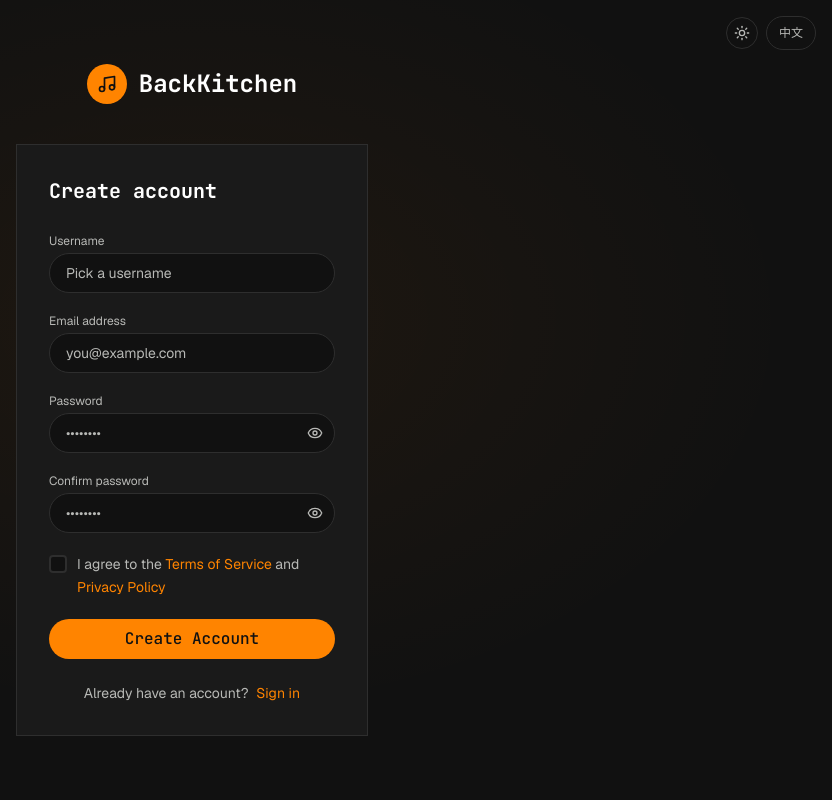
RegisterView › shows duplicate account error
Type "ada" into the field with placeholder "Pick a username" at (192, 273), box [49, 253, 335, 293]
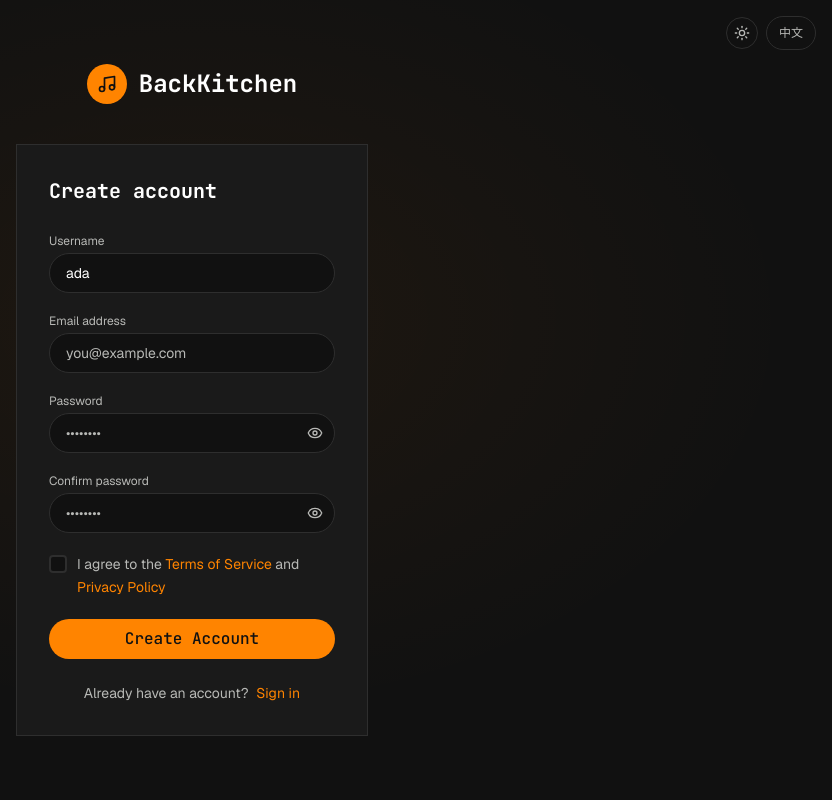
Type "ada@test.com" into the field with placeholder "you@example.com" at (192, 353), box [49, 333, 335, 373]
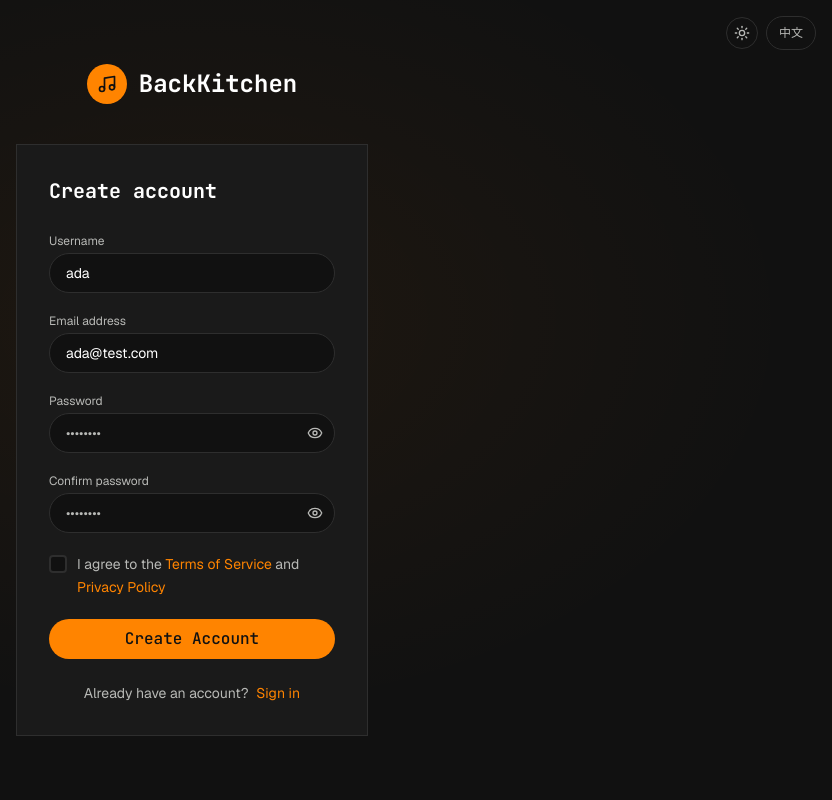
Type "password123" into the 1st password field with placeholder "••••••••" at (192, 433), box [49, 413, 335, 453]
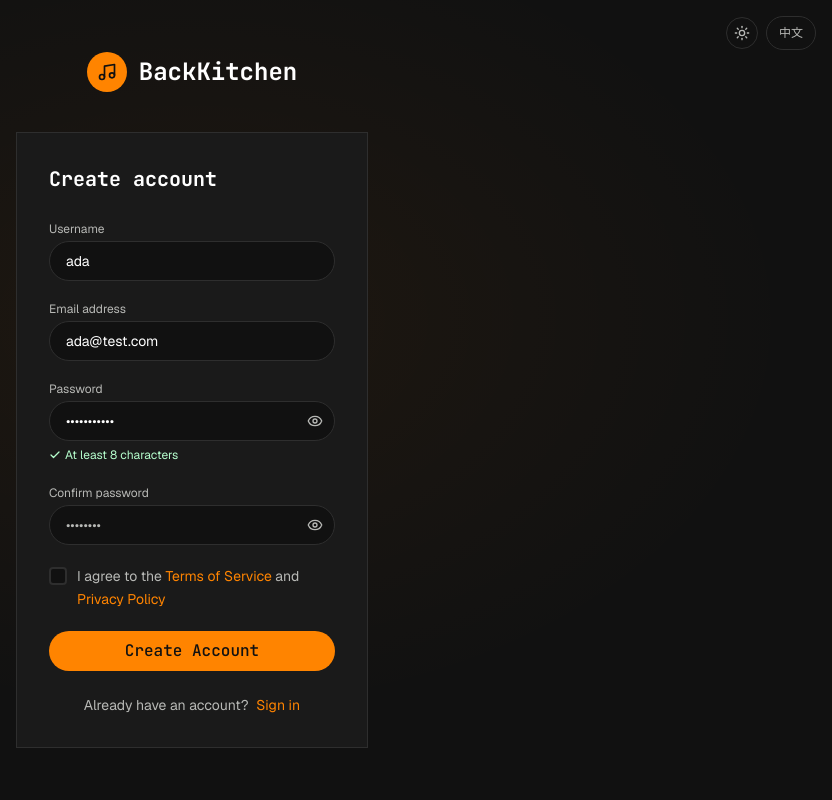
Type "password123" into the password field with placeholder "••••••••" at (192, 525), box [49, 505, 335, 545]
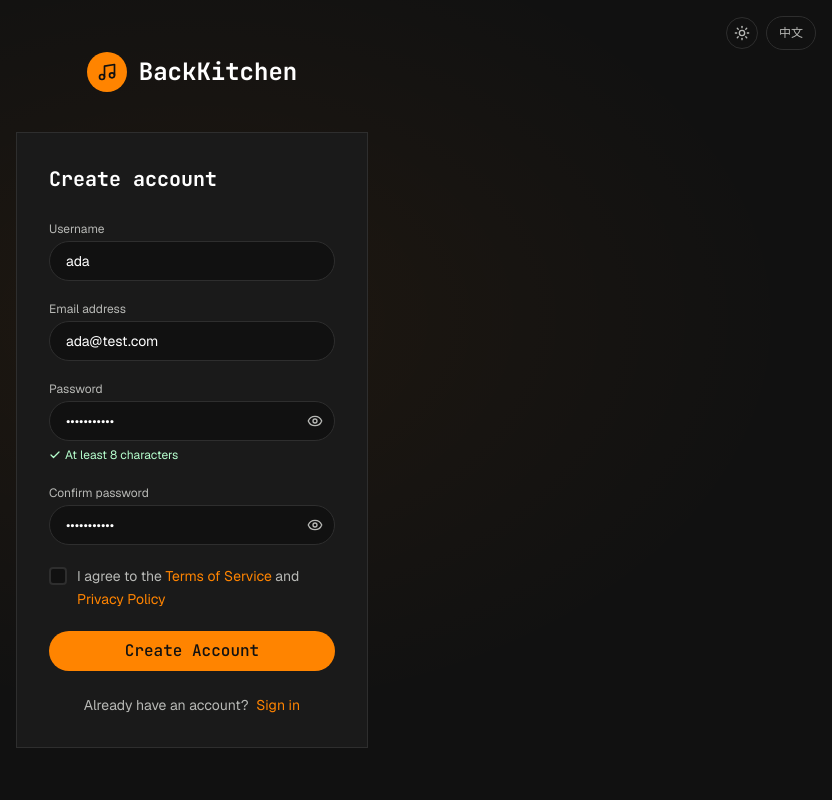
Click the checkbox labelled "I agree to the Terms of Service and Privacy Policy" at (58, 576), box [49, 567, 67, 585]
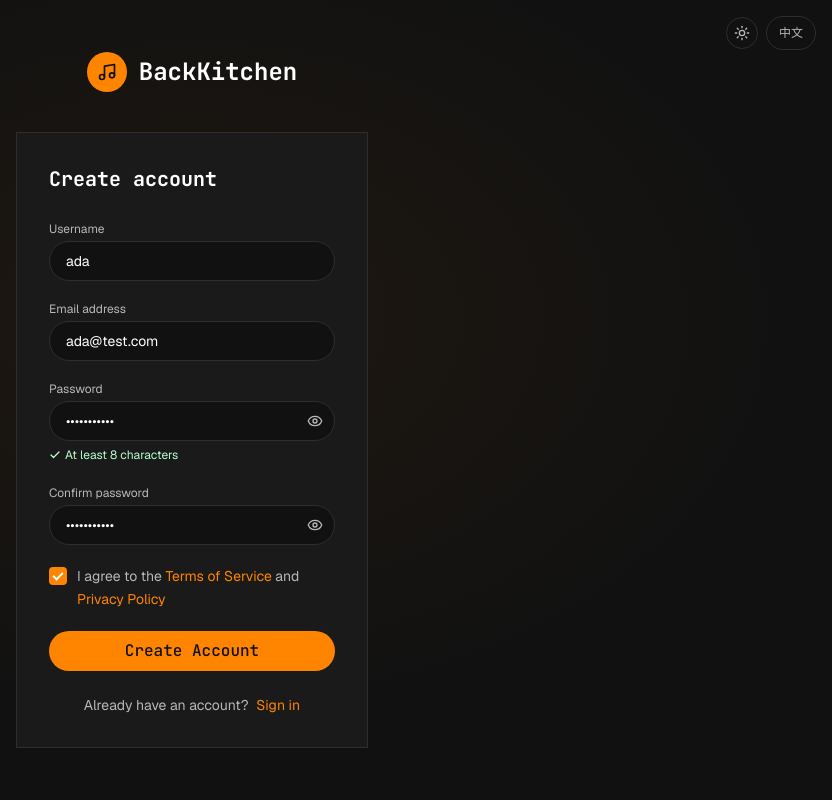
Submit the form, box [49, 221, 335, 671]
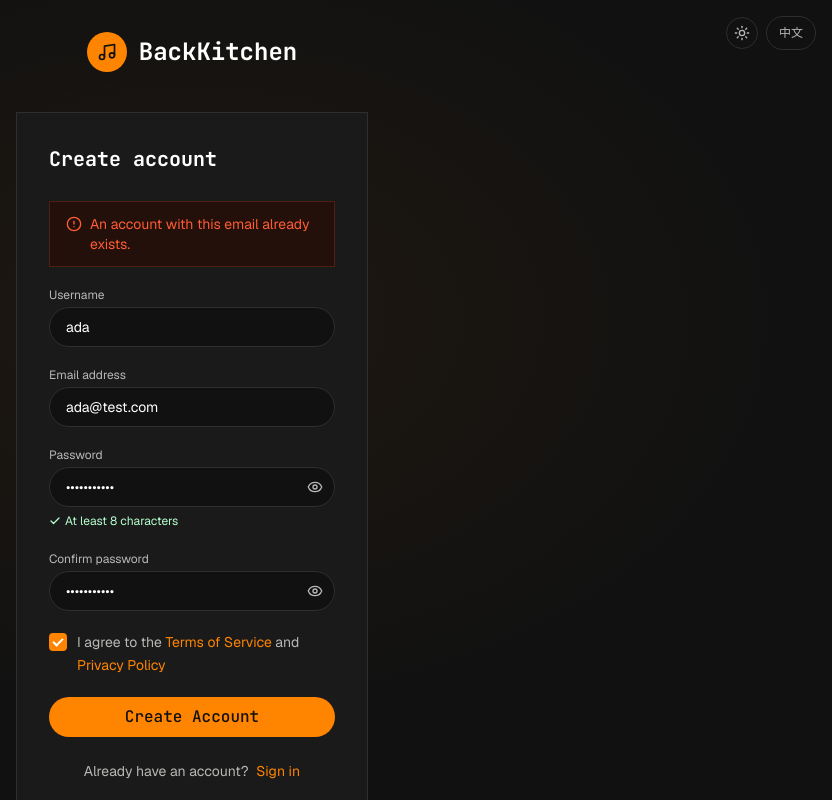
expect the text "An account with this email already exists." is shown: met, box [90, 214, 318, 254]
